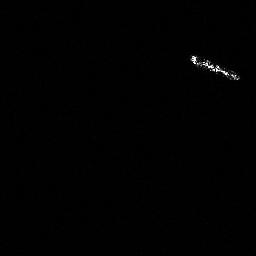ship: (190, 54, 241, 81)
